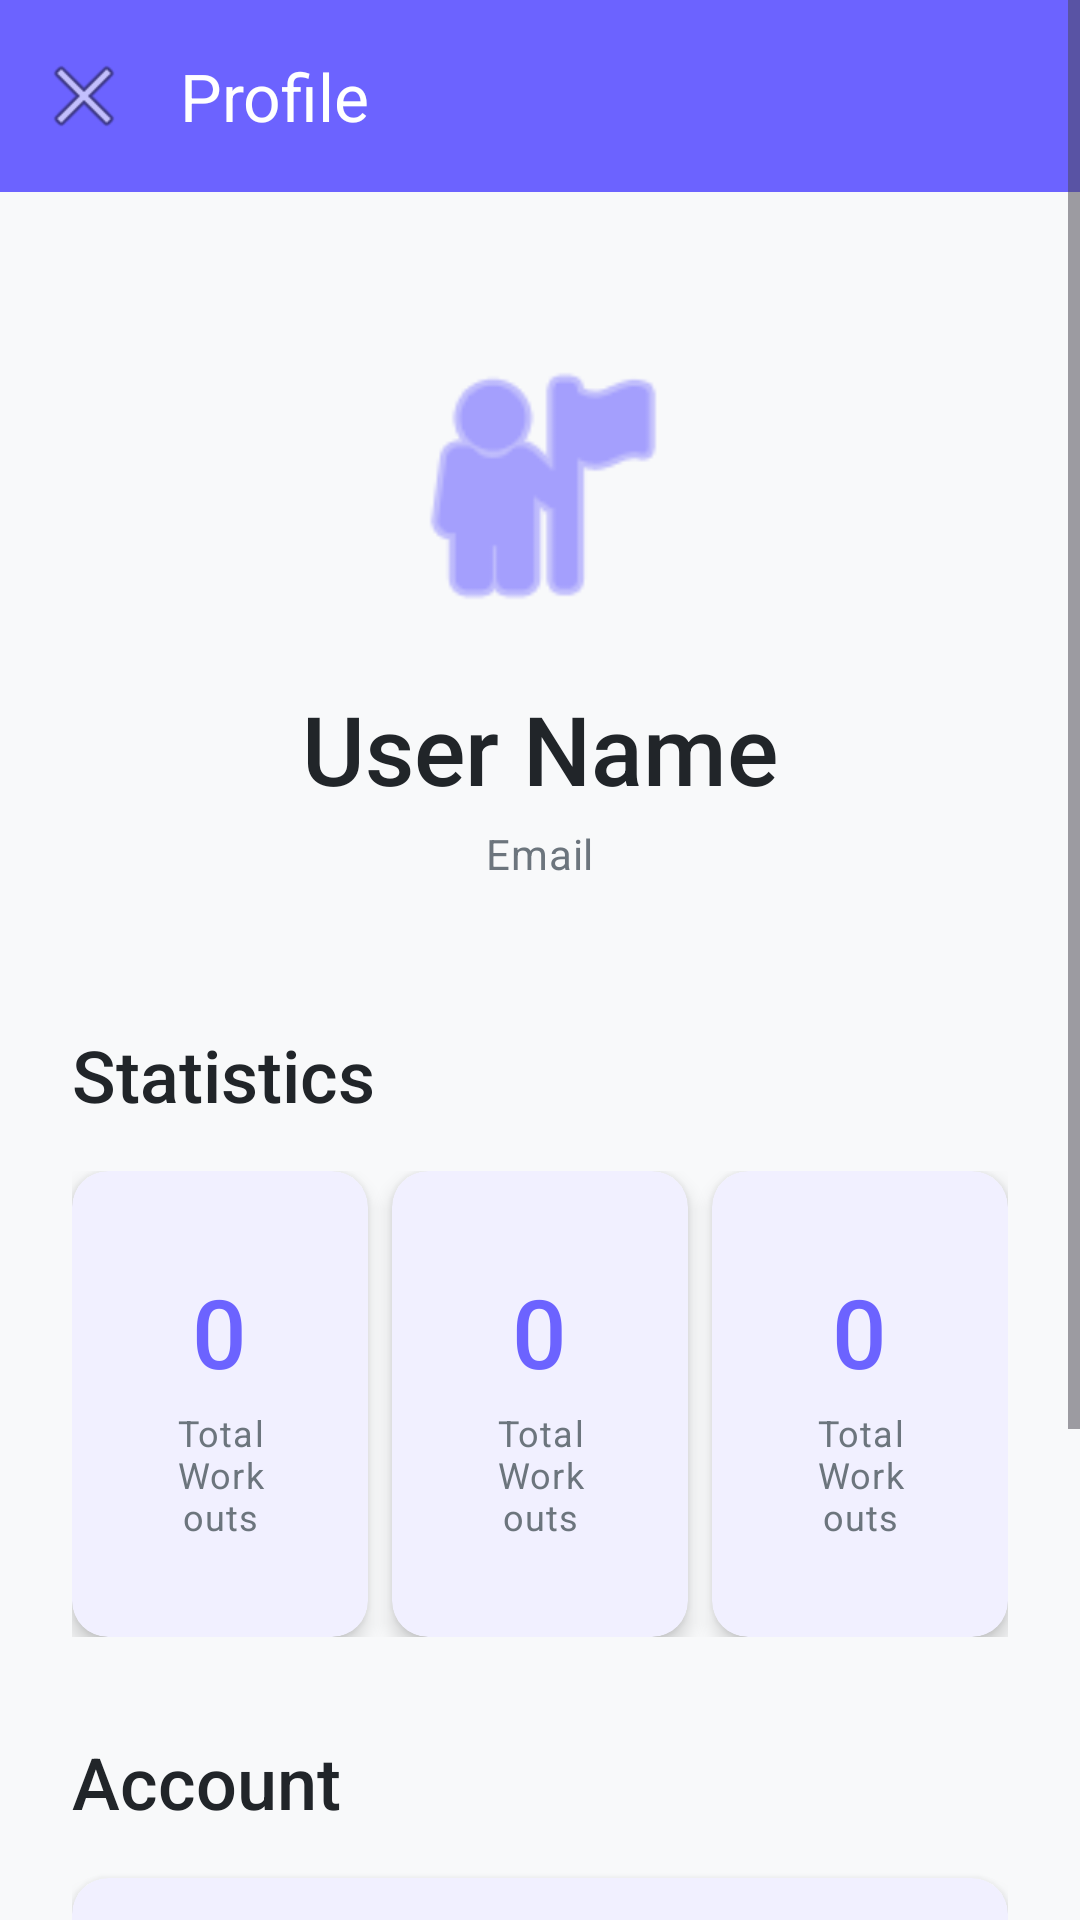

Point at icon controls on the screen. Image size 1080px x 1920px, points as [x,y].
Profile: [543,486]
